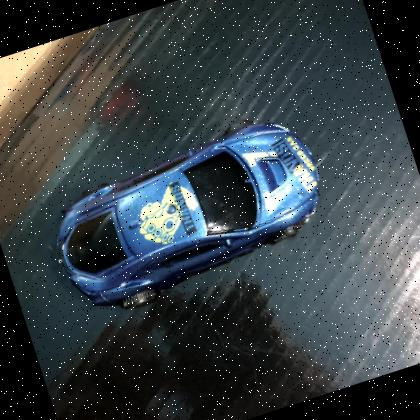Car: (29, 100, 342, 329)
